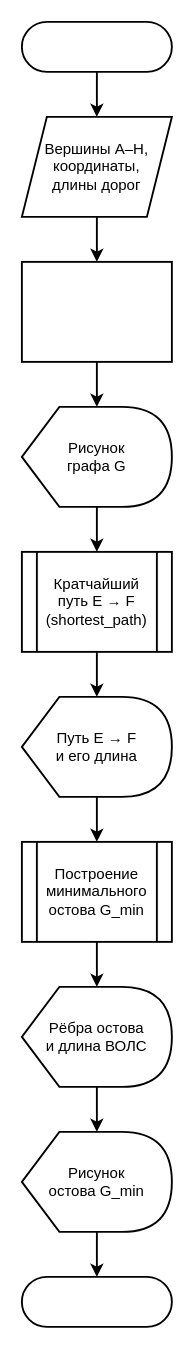
This 195x1350 diagram has some shape labels left out. The box of each missing label's shape, as (x1, y1, x2, y2) in pixels:
Конец: (20, 1275, 172, 1327)
Начало: (20, 20, 172, 72)
Создание графа G, добавление вершин и рёбер: (20, 260, 172, 362)
